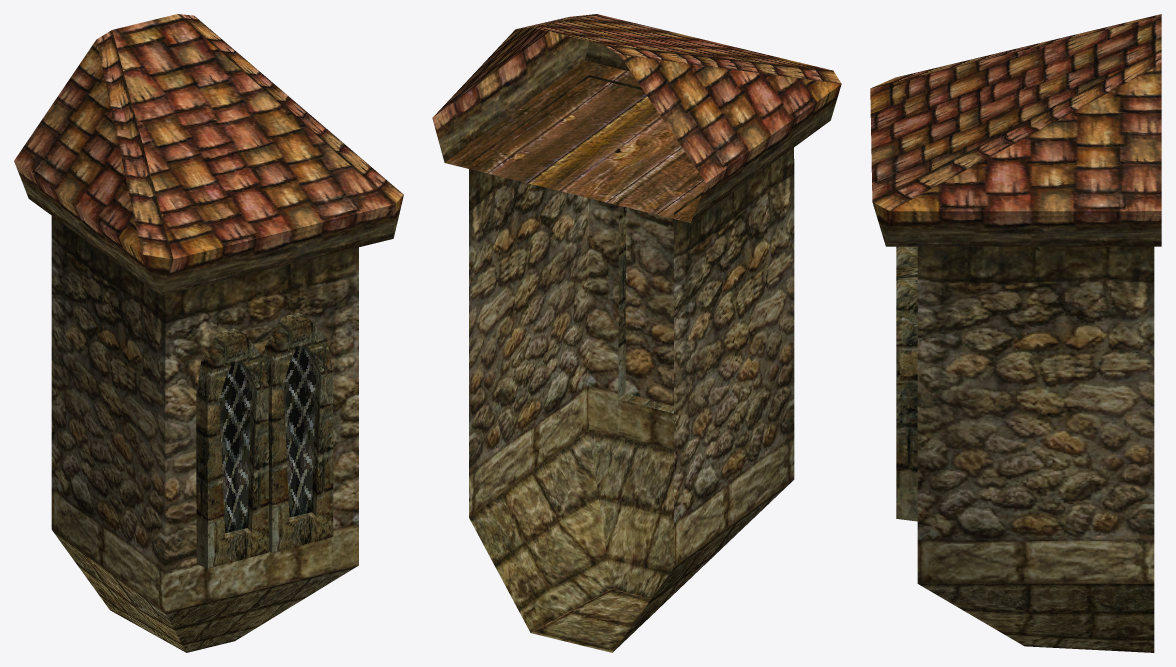
File: hrz83.glb
The picture shows the model from 3 angles, left to right: view 1: azimuth 30°, elevation 25°; view 2: azimuth 150°, elevation 25°; view 3: azimuth 270°, elevation 25°; orthographic projection. The views are drawn at different scales.
Visible parts, largest first — view 1: hrz83-col; view 2: hrz83-col; view 3: hrz83-col.
Boxes of the visible parts, x1,y1,x2,y2 form: hrz83-col: (14, 14, 403, 652); hrz83-col: (432, 14, 841, 652); hrz83-col: (870, 14, 1161, 652).
Bounding box in the file's own units: 3.24 × 6.88 × 3.02.
6 materials, 6 textured.
